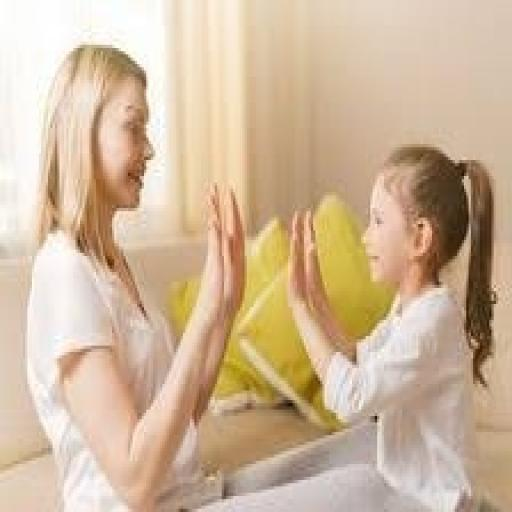clapping: (23, 38, 249, 509)
